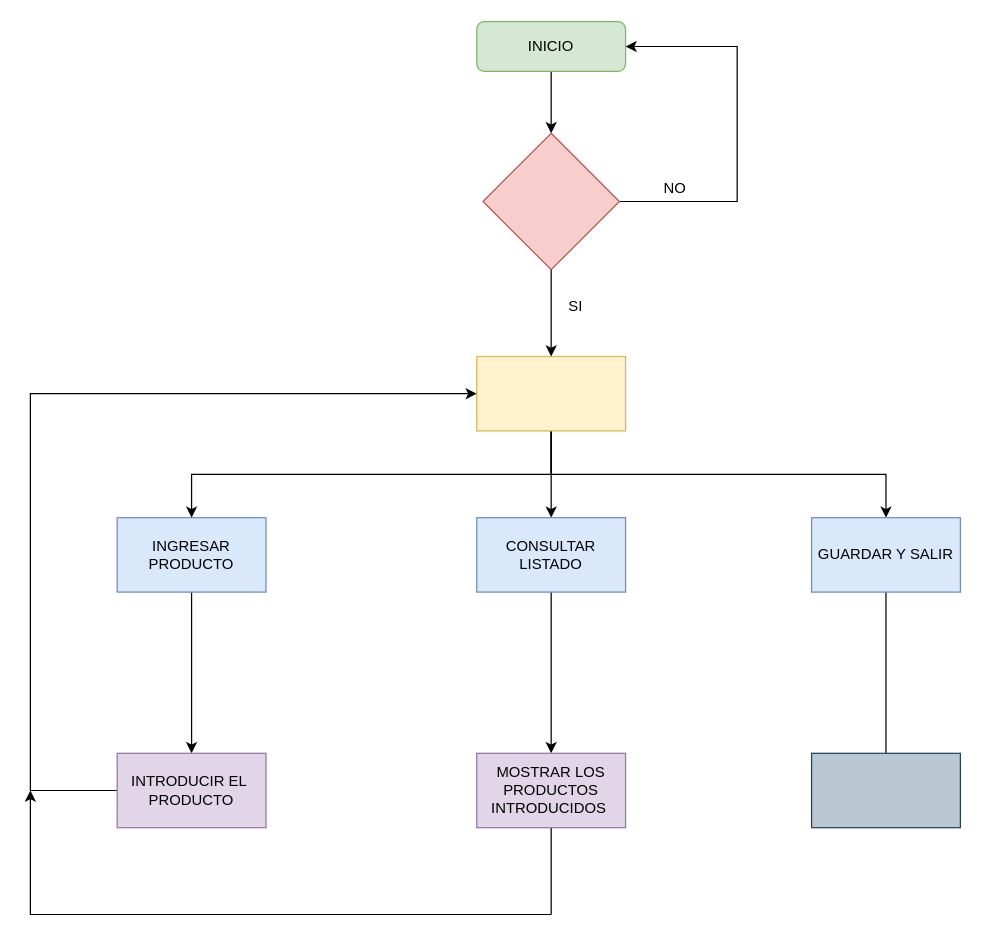
Some shapes in this 982 by 946 pixel diagram are drawn without their labels. The centre of each missing label's shape, as x and y in pixels:
"ABRE EL FICHERO" belongs at [550,201].
"MENÚ PRINCIPAL" belongs at [551,393].
"SALIR DEL PROGRAMA" belongs at [885,790].
